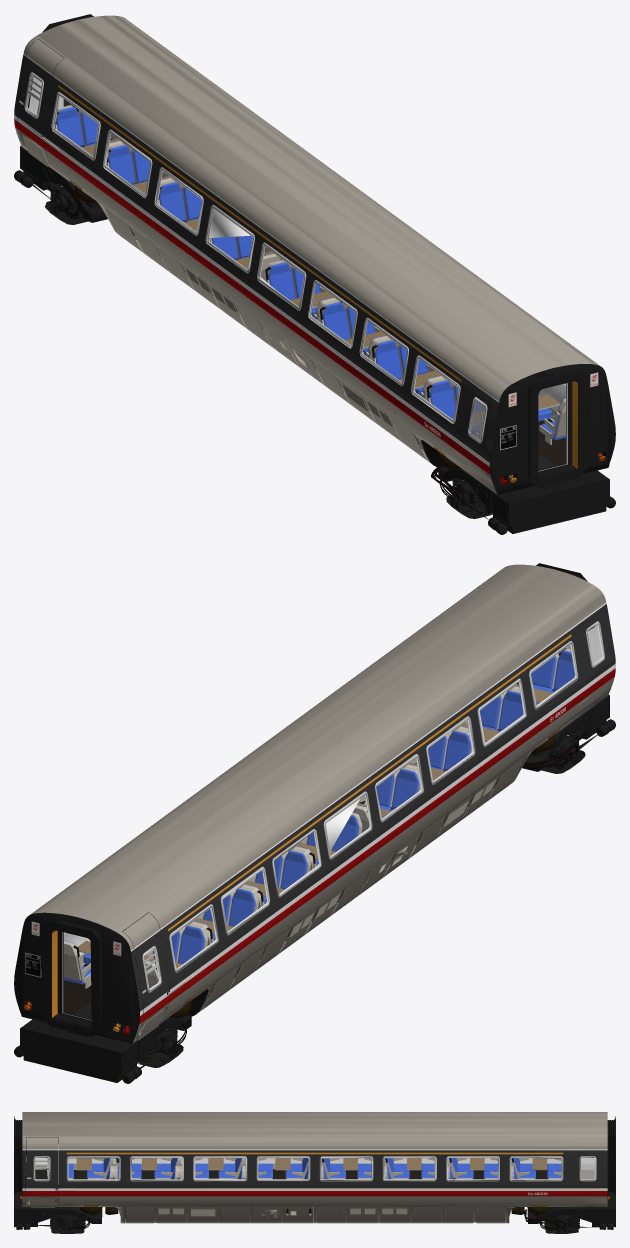
The model's file is carriage91.glb.
3 views of the same model, one above another, from view 1: azimuth 30°, elevation 25°; view 2: azimuth 150°, elevation 25°; view 3: azimuth 270°, elevation 25° (orthographic). The views are drawn at different scales.
Parts seen in each view (by area): view 1: Main Body_0, Seats.001_20, Bogie_11, Botton Panels_2, Rear Door Surround_1, Interior Walls_3, Tables.001_21, Yellow Strip_22; view 2: Main Body_0, Seats.001_20, Bogie_11, Botton Panels_2, Rear Door Surround_1, Interior Walls_3, Tables.001_21, Yellow Strip_22; view 3: Main Body_0, Botton Panels_2, Seats.001_20, Bogie_11, Interior Walls_3, Tables.001_21, Yellow Strip_22, Rear Door Surround_1, Wires and Pipes.001_13, Undercarriage.002_12, Step.001_19.
Part boxes in pixels (bbox=[...]): Main Body_0: bbox=[14, 15, 615, 494]; Seats.001_20: bbox=[55, 105, 565, 444]; Bogie_11: bbox=[14, 146, 615, 534]; Botton Panels_2: bbox=[105, 208, 428, 461]; Rear Door Surround_1: bbox=[42, 14, 587, 487]; Interior Walls_3: bbox=[26, 75, 585, 471]; Tables.001_21: bbox=[81, 138, 560, 426]; Yellow Strip_22: bbox=[58, 85, 461, 382]; Main Body_0: bbox=[14, 564, 615, 1043]; Seats.001_20: bbox=[64, 648, 574, 988]; Bogie_11: bbox=[14, 694, 615, 1083]; Botton Panels_2: bbox=[198, 757, 524, 1012]; Rear Door Surround_1: bbox=[42, 563, 587, 1036]; Interior Walls_3: bbox=[62, 625, 603, 1020]; Tables.001_21: bbox=[78, 684, 552, 968]; Yellow Strip_22: bbox=[168, 634, 571, 931]; Main Body_0: bbox=[22, 1112, 607, 1223]; Botton Panels_2: bbox=[125, 1207, 504, 1223]; Seats.001_20: bbox=[46, 1158, 561, 1179]; Bogie_11: bbox=[14, 1191, 615, 1233]; Interior Walls_3: bbox=[25, 1144, 593, 1184]; Tables.001_21: bbox=[76, 1158, 547, 1170]; Yellow Strip_22: bbox=[66, 1152, 563, 1154]; Rear Door Surround_1: bbox=[14, 1116, 615, 1194]; Wires and Pipes.001_13: bbox=[524, 1209, 565, 1230]; Undercarriage.002_12: bbox=[35, 1173, 593, 1214]; Step.001_19: bbox=[30, 1198, 54, 1207].
Bounding box in the file's own units: 2.86 × 3.48 × 18.66.
22 materials, 2 textured.
